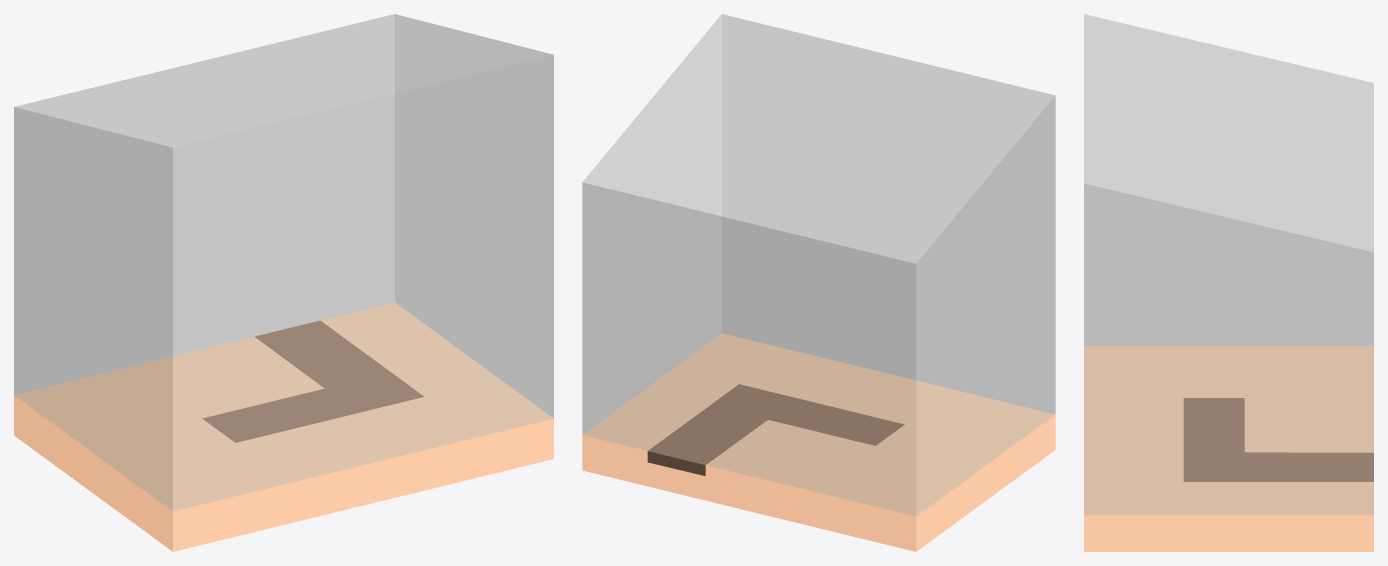
Rendered from gewhaus1.glb.
3 renders of one model, left to right at view 1: azimuth 30°, elevation 25°; view 2: azimuth 150°, elevation 25°; view 3: azimuth 270°, elevation 25°, orthographic. The views are drawn at different scales.
Visible parts, largest first — view 1: gewhaus1; view 2: gewhaus1; view 3: gewhaus1.
Part boxes in pixels (bbox=[...]): gewhaus1: bbox=[14, 14, 553, 551]; gewhaus1: bbox=[582, 14, 1055, 551]; gewhaus1: bbox=[1084, 14, 1373, 551].
Size of the model in its own units: 25.95 by 26.33 by 18.78.
